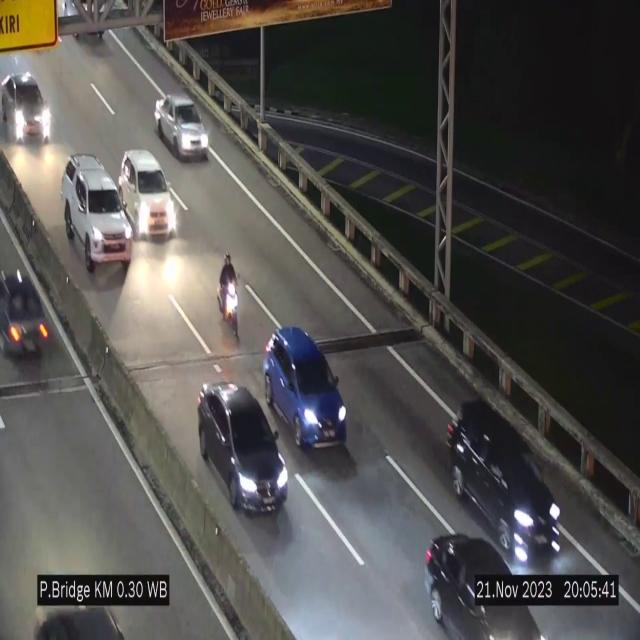Car: (452, 397, 564, 563), (422, 529, 548, 640), (198, 384, 289, 514), (263, 326, 347, 446), (63, 155, 131, 274), (0, 254, 54, 374), (119, 150, 177, 235), (1, 70, 51, 148), (155, 94, 209, 158)
Motorcycle: (218, 256, 238, 339)
